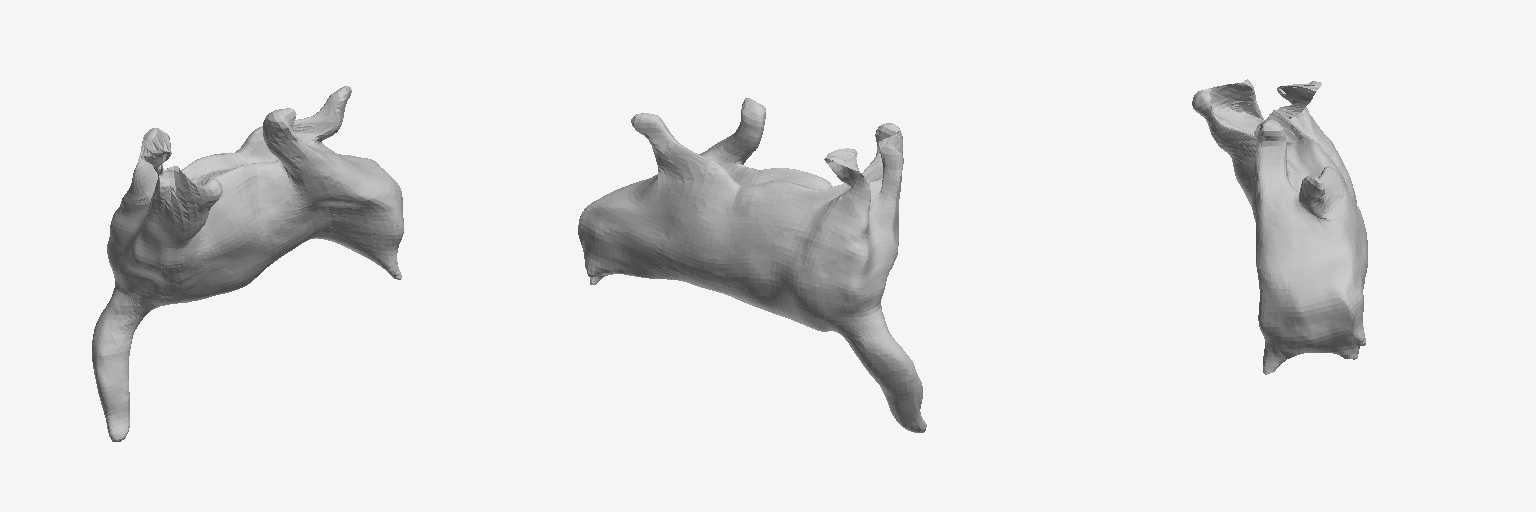
Rendered from fg-00035-geo-color.obj.
3 views of the same model, side by side, from view 1: azimuth 30°, elevation 25°; view 2: azimuth 150°, elevation 25°; view 3: azimuth 270°, elevation 25° (orthographic).
Bounding box in the file's own units: 0.2801 × 0.2505 × 0.137.